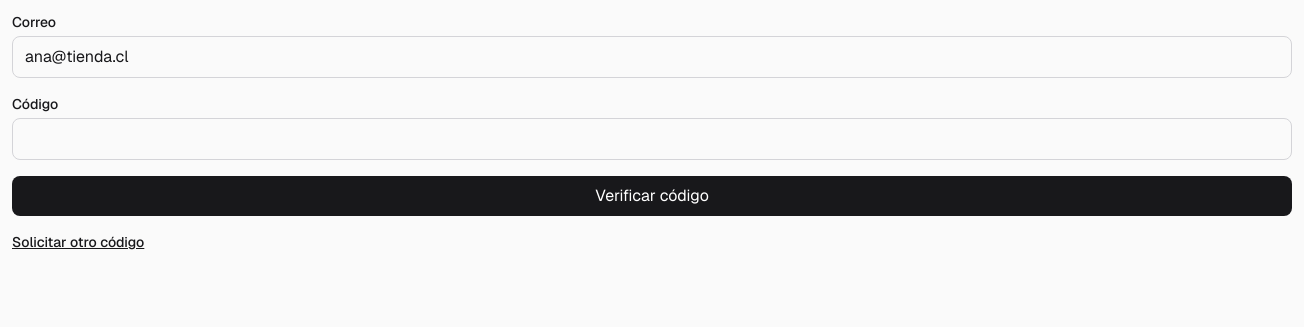
Test: ResetCodeForm › muestra el error si el código es inválido
In the field labelled "Código": (652, 139) [12,118,1292,160], type "000000"
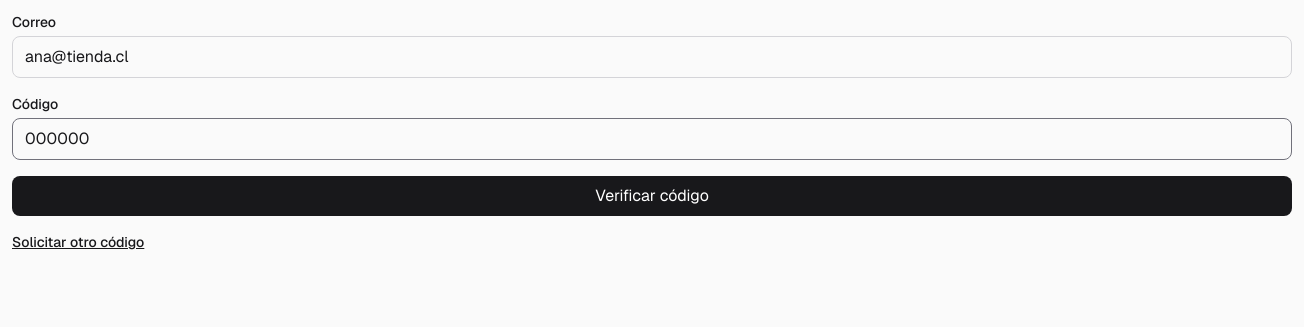
Click the button "Verificar código": (652, 196) [12,176,1292,216]
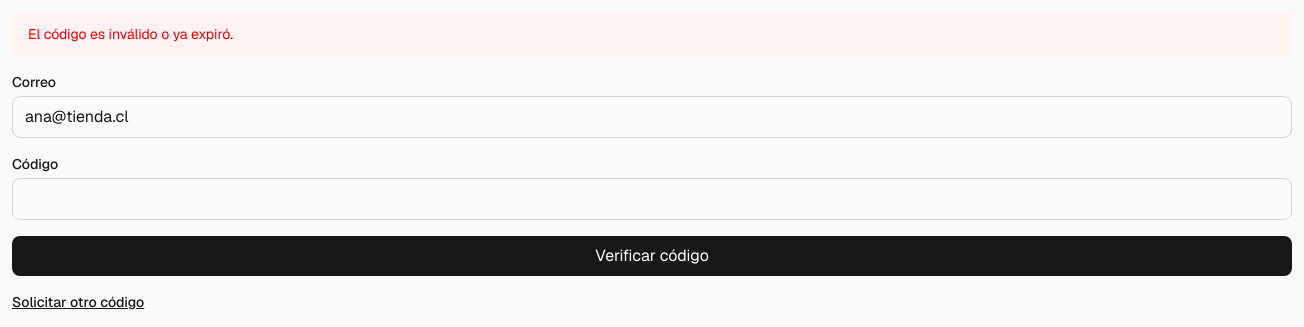
Now the text "El código es inválido o ya expiró." is shown, box [12,12,1292,56]
